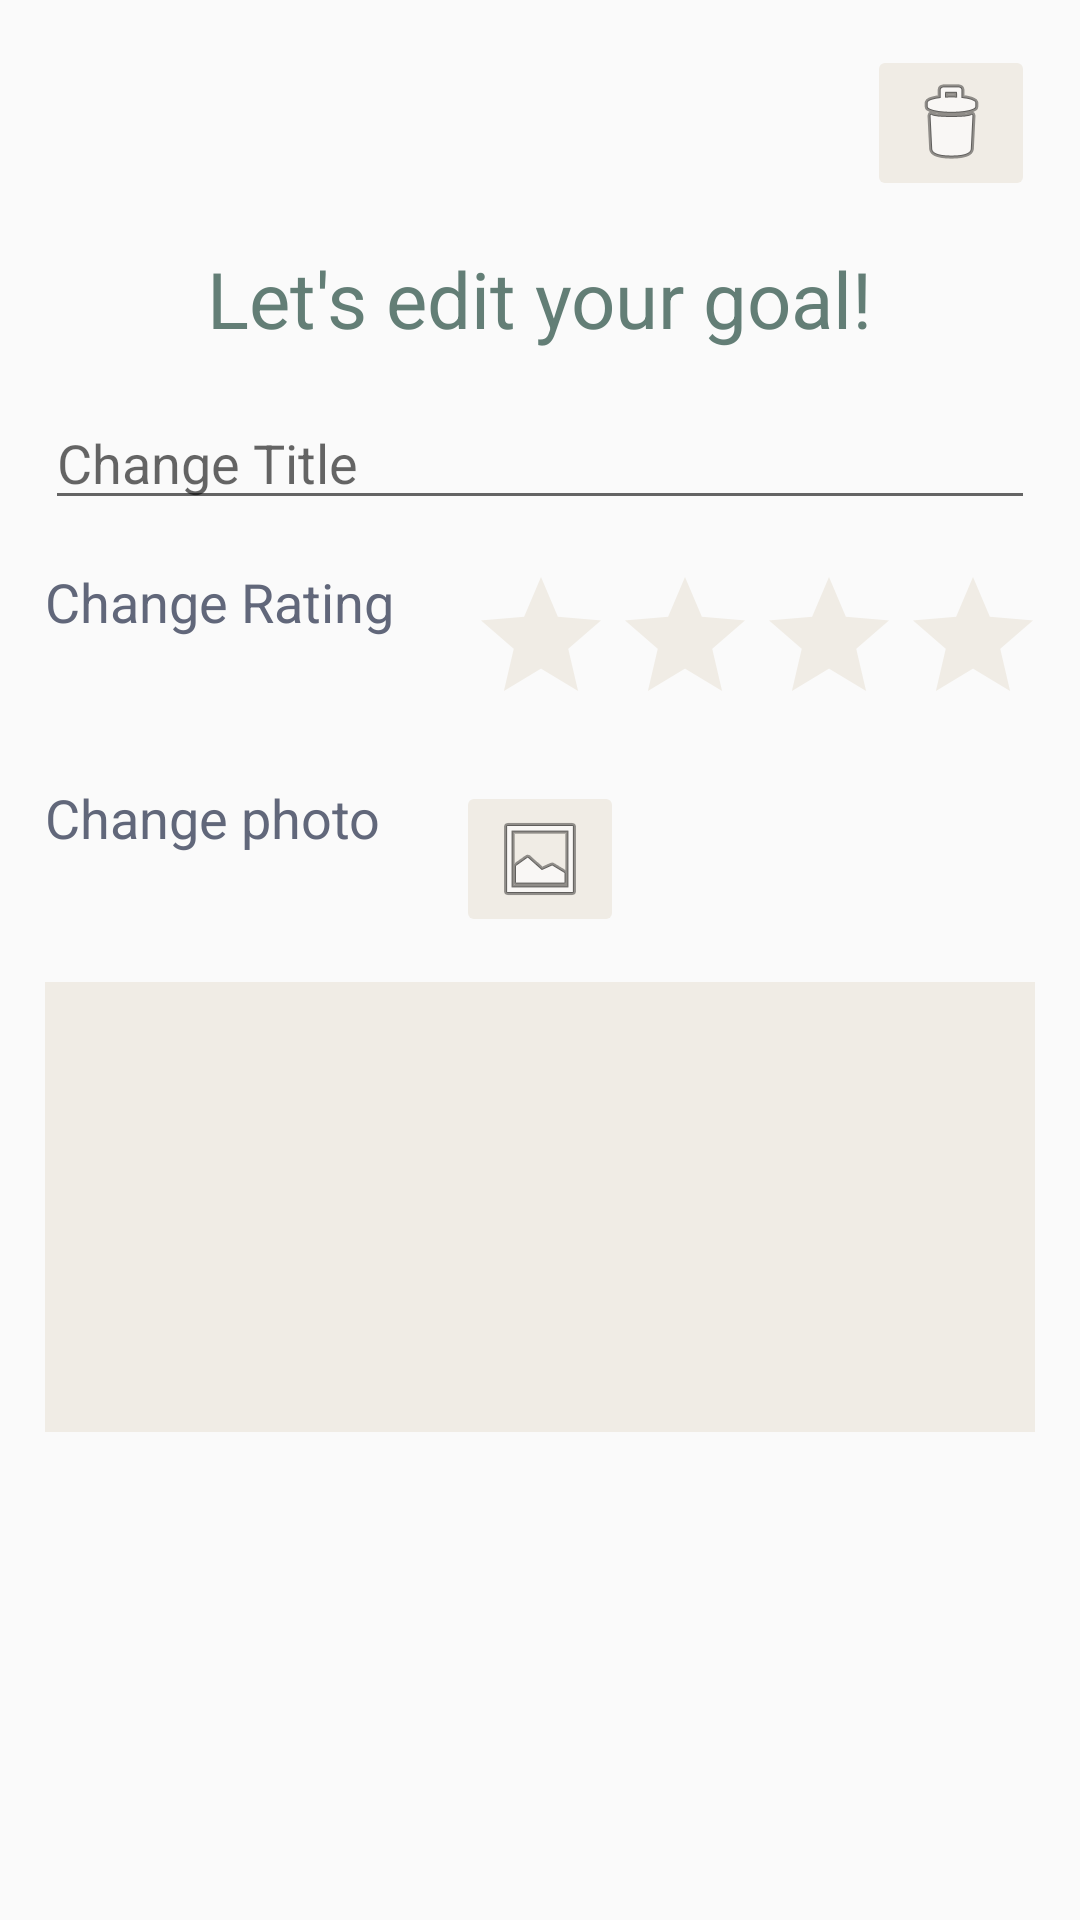

Point at icon controls on the screen. Image size 1080*1920, points as (x=x, y=y).
delete: (x=951, y=123)
gallery: (x=540, y=859)
